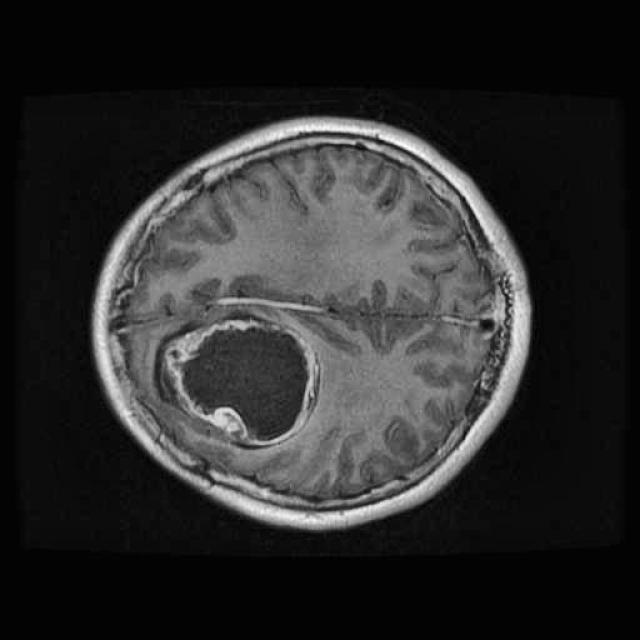Tumor: (152, 312, 330, 456)
